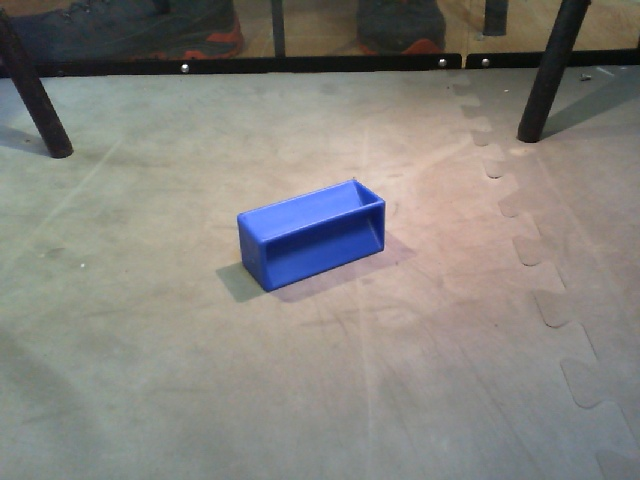BlueSample: (230, 176, 391, 295)
